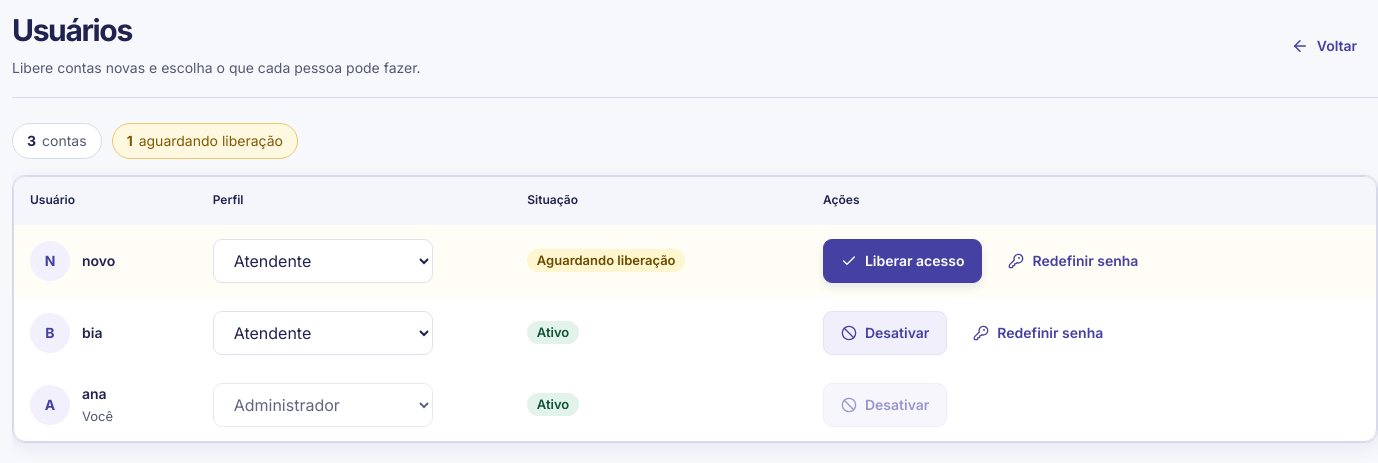
Test: Usuários › libera o acesso mantendo o perfil e avisa
The image size is (1378, 463).
Check: the dropdown named "Perfil de novo" is shown, box [213, 239, 433, 283]
Click the button with aria-label "Liberar acesso de novo" at (903, 261), box [823, 239, 982, 283]
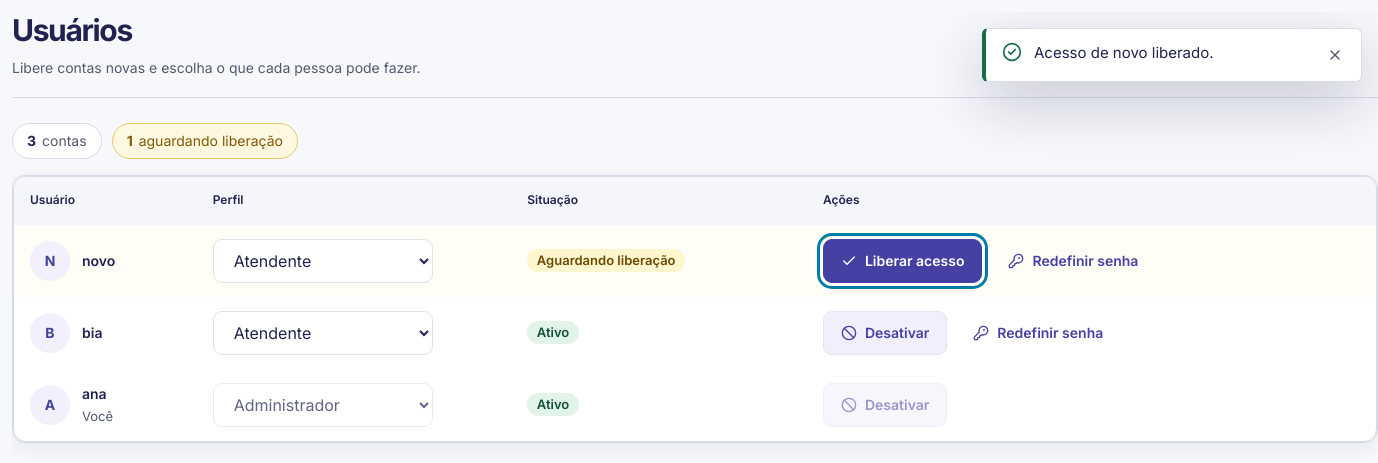
Check: the text "Acesso de novo liberado." is shown, box [1034, 43, 1214, 62]
